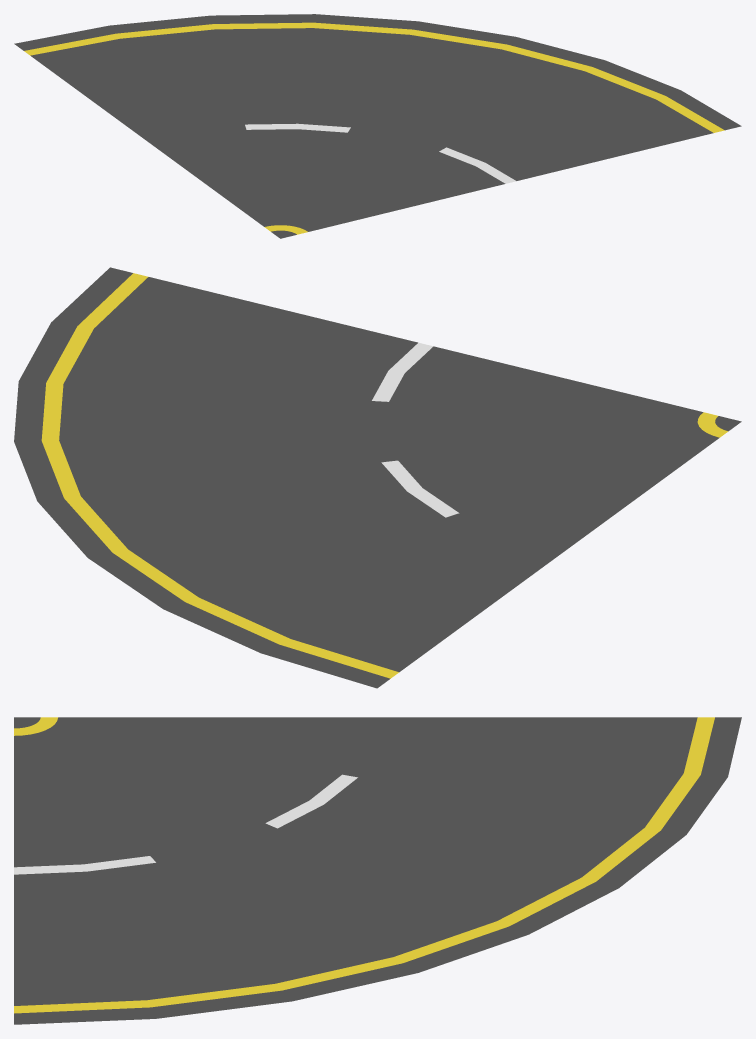
File: road_005.FBX
3 views of the same model, one above another, from view 1: azimuth 30°, elevation 25°; view 2: azimuth 150°, elevation 25°; view 3: azimuth 270°, elevation 25° (orthographic). The views are drawn at different scales.
Visible parts, largest first — view 1: road_005; view 2: road_005; view 3: road_005.
Boxes of the visible parts, x1,y1,x2,y2 form: road_005: (14,14,741,238); road_005: (14,267,741,688); road_005: (14,717,741,1024).
Size of the model in its own units: 500 by 9.55e-05 by 500.
